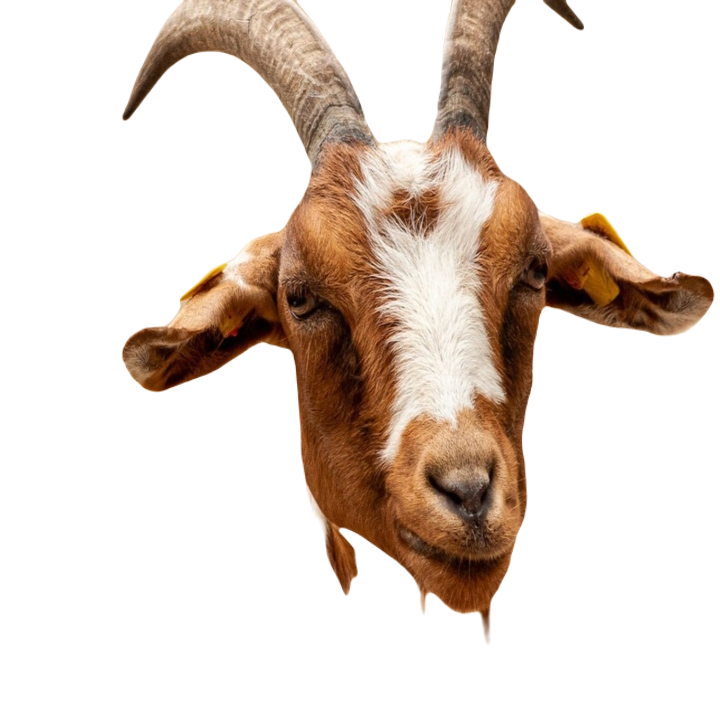Goat: (118, 0, 715, 645)
